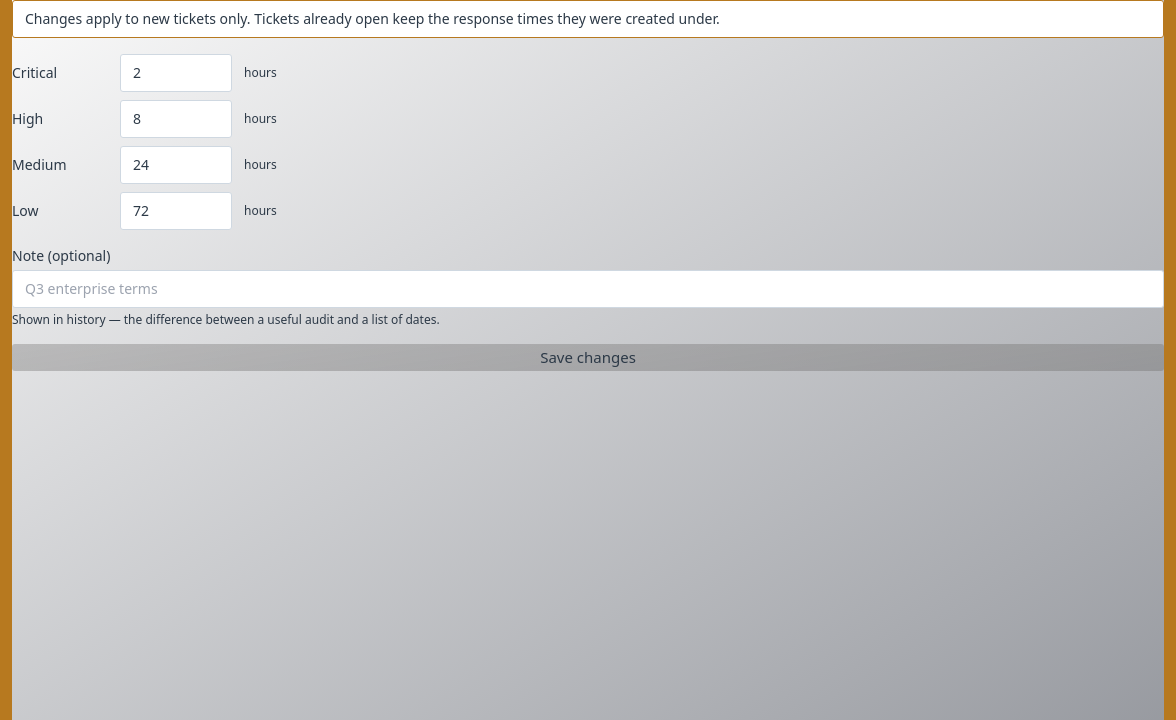
Test: inverted ladder › warns when a higher priority is slower than a lower one
Critical 12h against High 8h.
Replace the text in the number field labelled "Critical hours" with "12" at {"x": 176, "y": 73}, box [120,54,232,92]
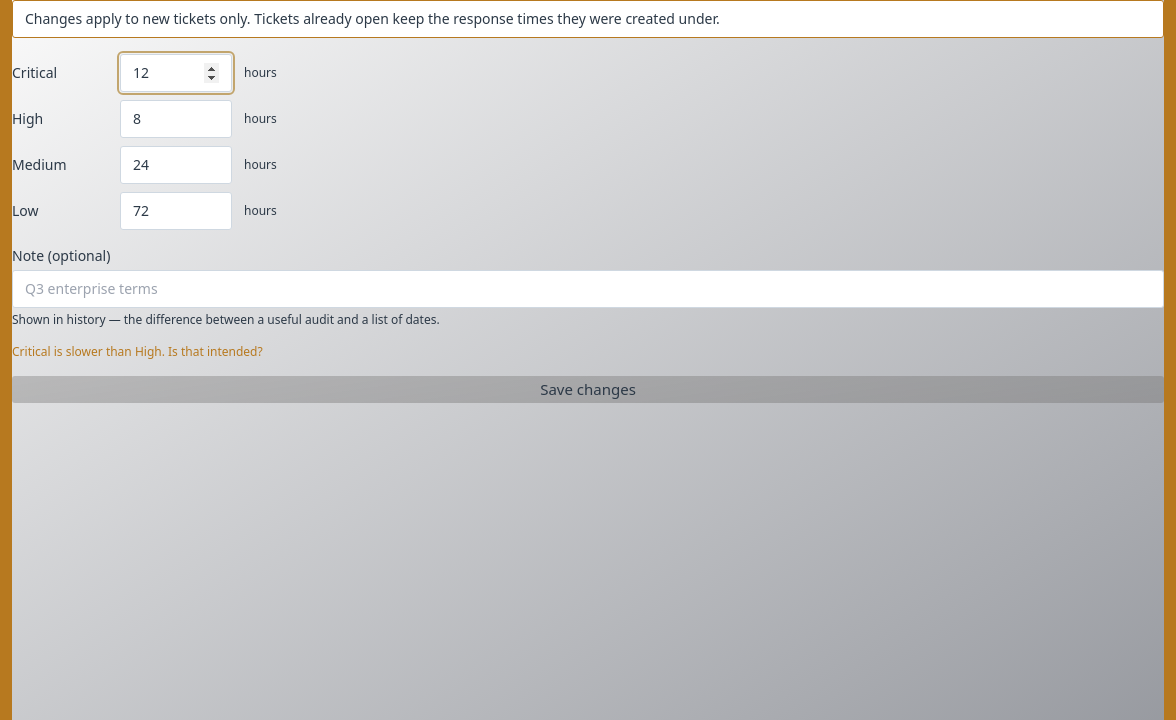
Result: the text "Critical is slower than High. Is that intended?" is shown at [12,343,263,360]
